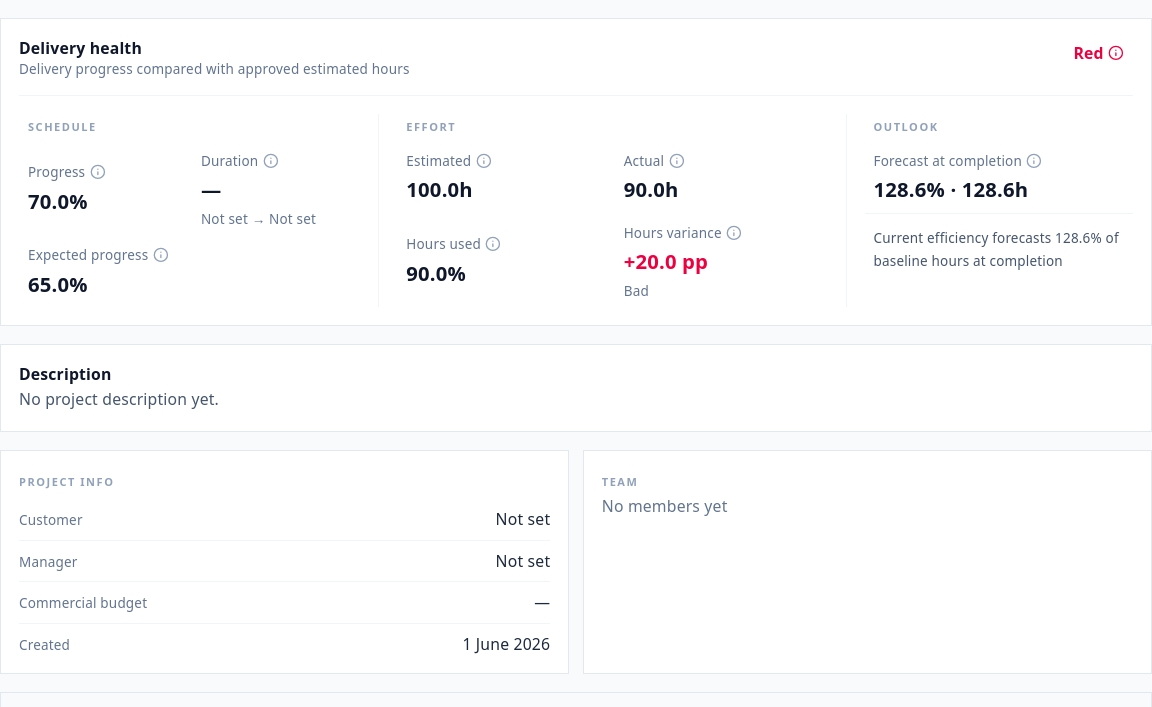
it: ProjectOverviewTab delivery health explanations › opens a metric explanation and closes it with Escape
The image size is (1152, 707).
Click the button with aria-label "Explain Hours variance": x=721, y=262 [615,217,828,307]
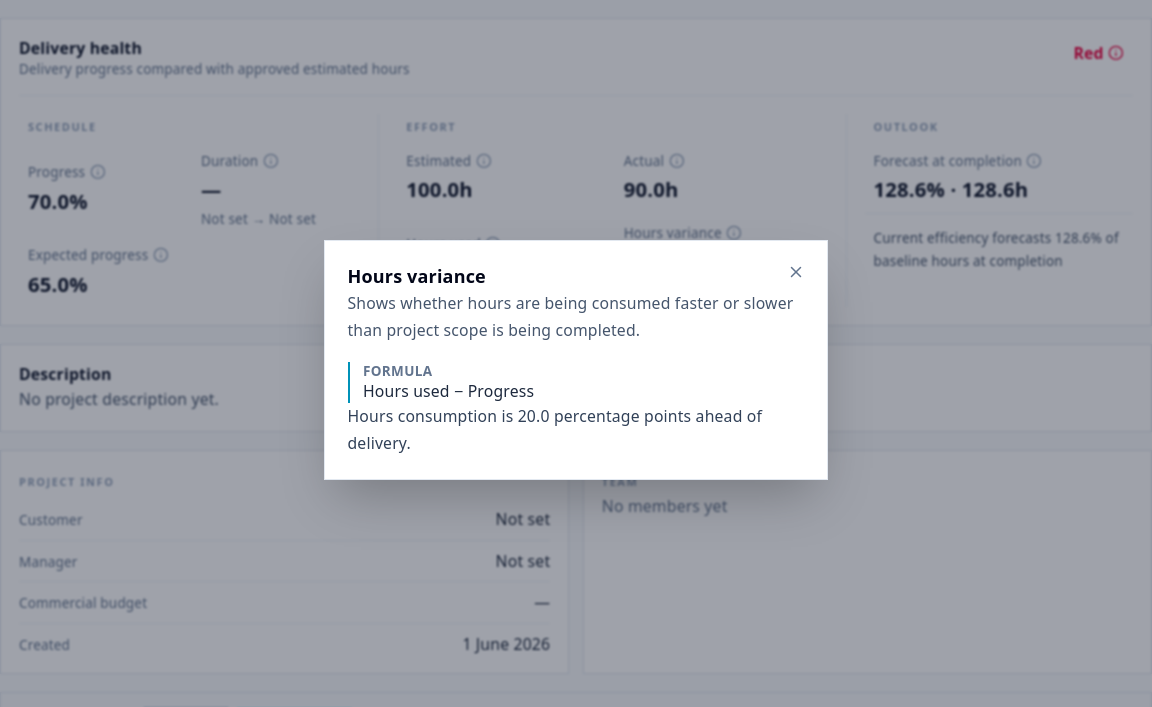
expect the dialog is shown: met, box [324,240,828,480]
expect the heading "Hours variance" is shown: met, box [348,264,486,288]
expect the text "Hours used − Progress" is shown: met, box [363,380,534,402]
Press Escape
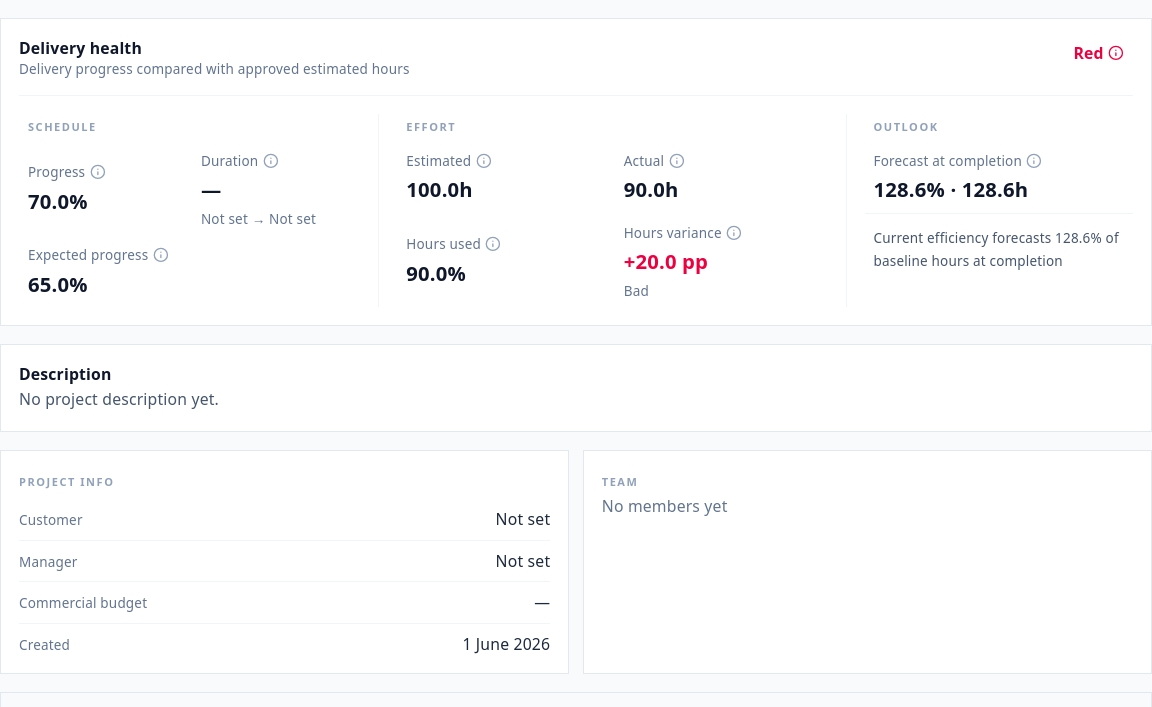
expect the dialog is gone: met
